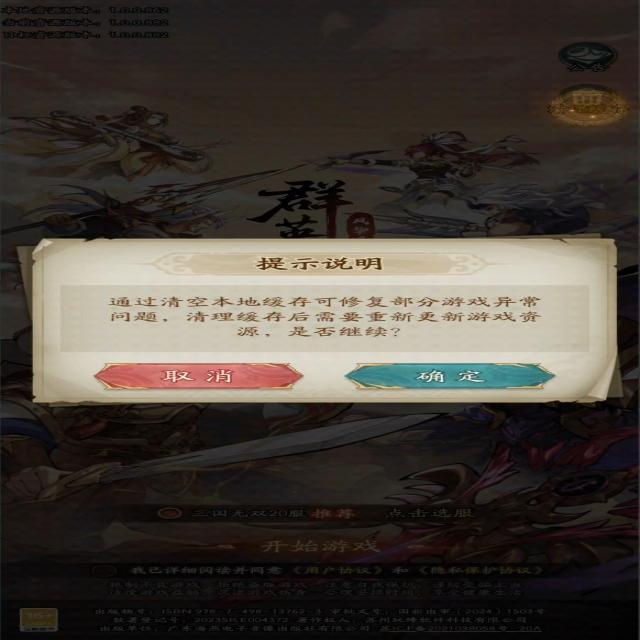operation-close: (88, 360, 303, 390)
operation-confirm: (342, 361, 557, 391)
